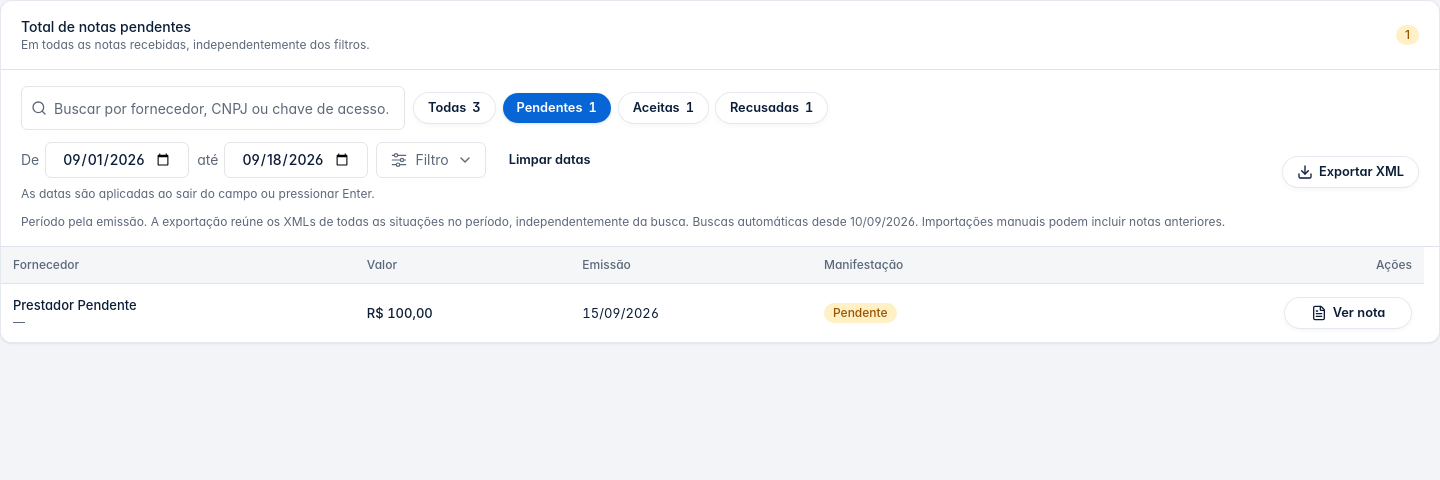
filtros e ações da interface › abre em pendentes, combina datas e mantém o total geral
expect the text "Prestador Ignorado" is not shown: met
Type "2026-09-16" into the date field labelled "De" at (117, 160), box [45, 142, 189, 178]
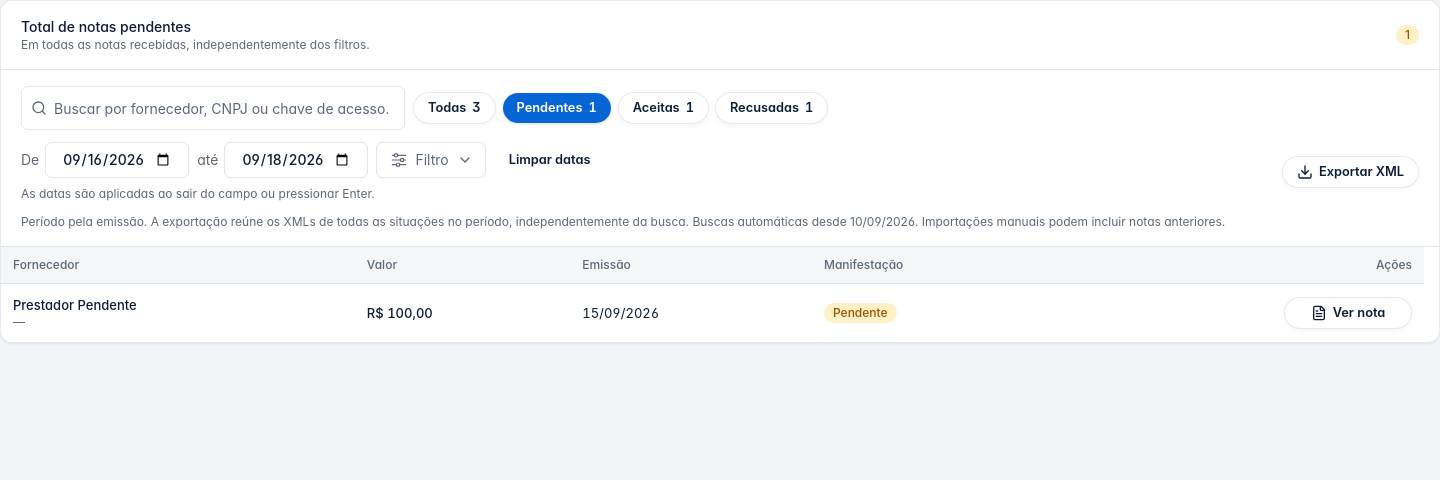
Leave the date field labelled "De", box [45, 142, 189, 178]
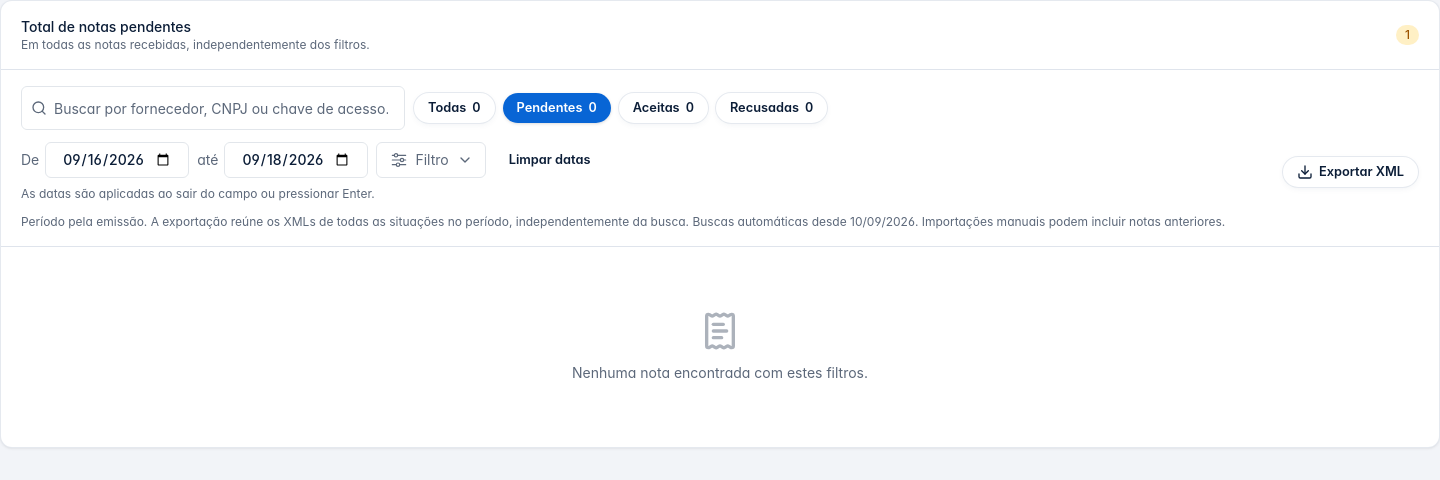
expect the text "Total de notas pendentes" is shown: met, box [21, 18, 191, 35]
expect the text "Prestador Pendente" is gone: met
expect the button with aria-label "Pendentes (0)" is shown: met, box [502, 92, 612, 124]
Type "2026-09-15" into the date field labelled "De" at (117, 160), box [45, 142, 189, 178]
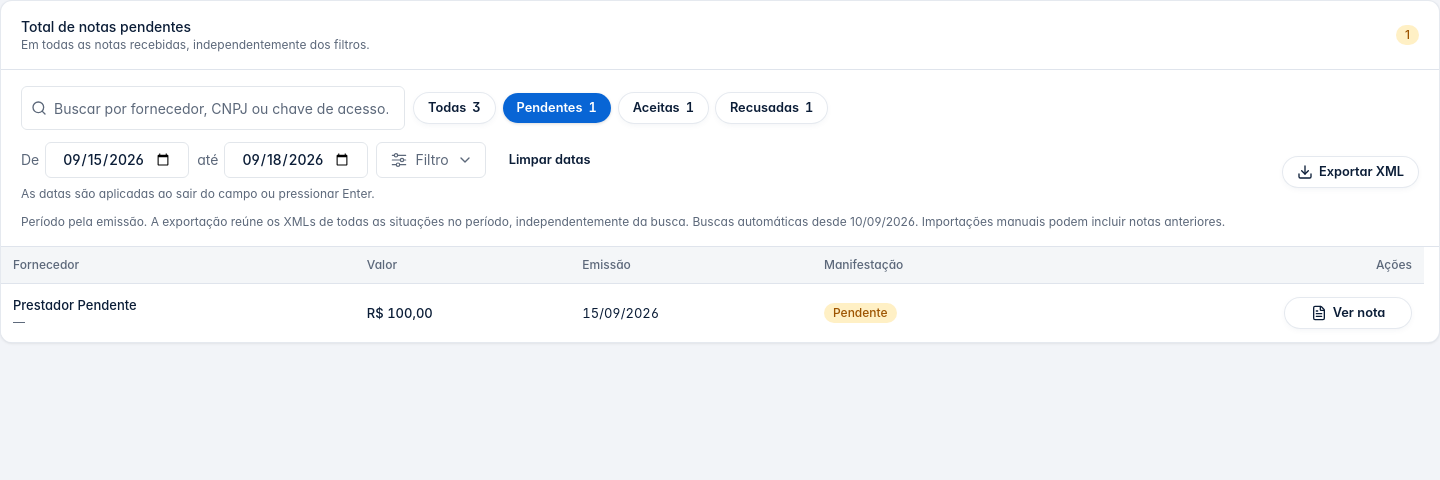
Type "2026-09-15" into the date field labelled "até" at (296, 160), box [224, 142, 368, 178]
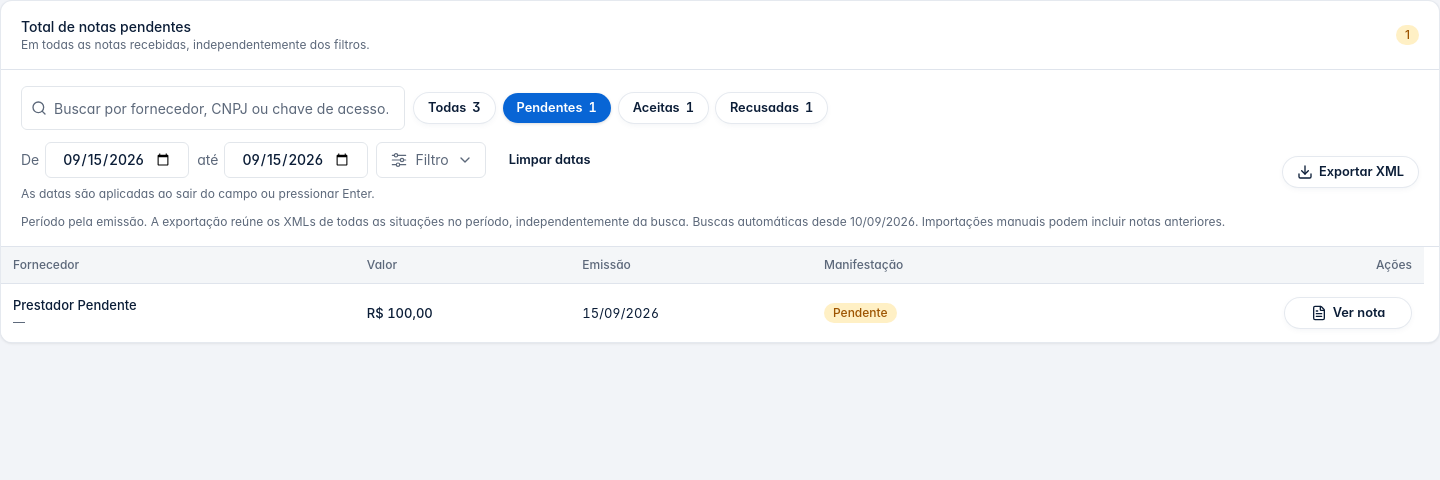
expect the column heading "Valor" is shown: met, box [355, 247, 570, 283]
expect the column heading "Emissão" is shown: met, box [570, 247, 812, 283]
expect the column heading "Manifestação" is shown: met, box [812, 247, 1060, 283]
Click the button "Todas 3" at (454, 108), box [413, 92, 496, 124]
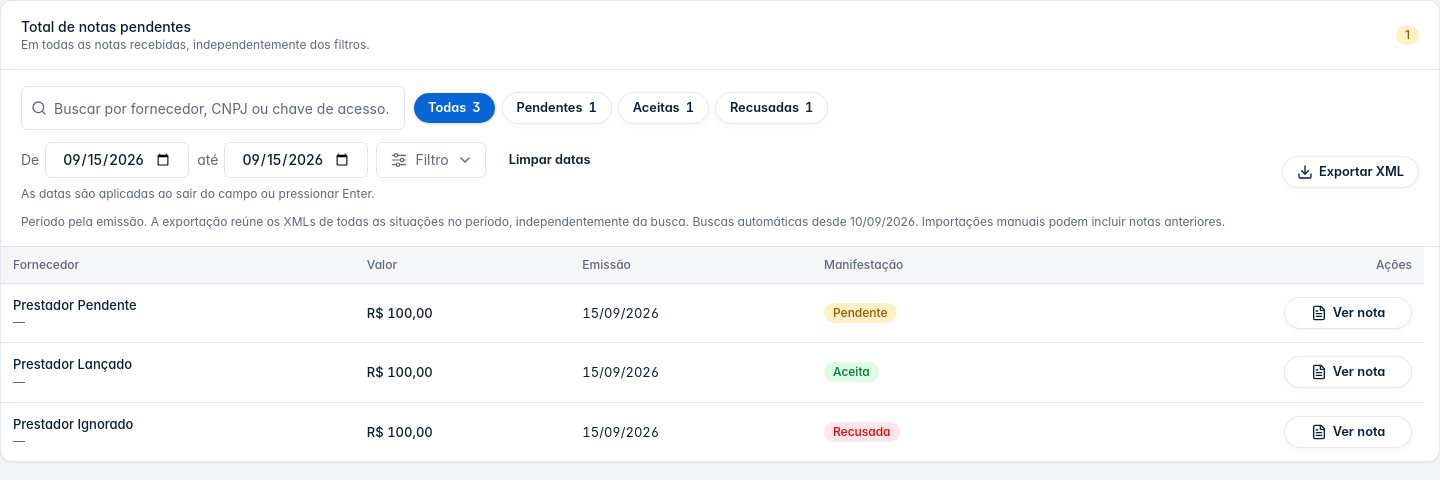
expect the number of buttons "Ver nota" is 3: met, box [1284, 297, 1412, 329]; [1284, 356, 1412, 388]; [1284, 416, 1412, 448]
Type "lançado" into the field named "Buscar notas" at (213, 108), box [21, 86, 405, 130]
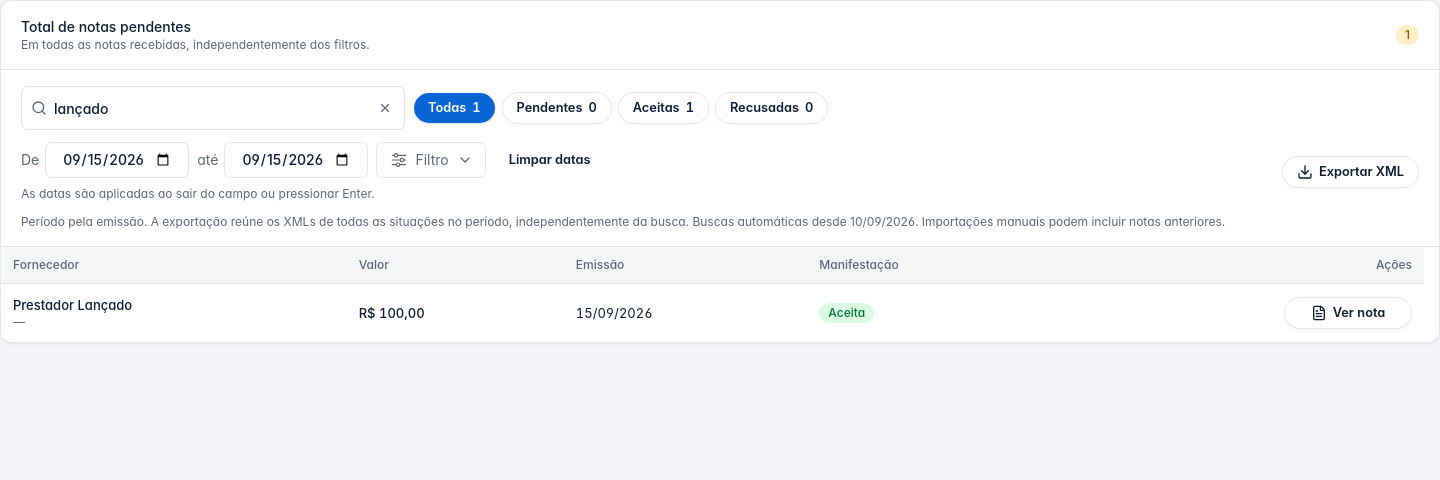
expect the number of buttons "Ver nota" is 1: met, box [1284, 297, 1412, 329]
